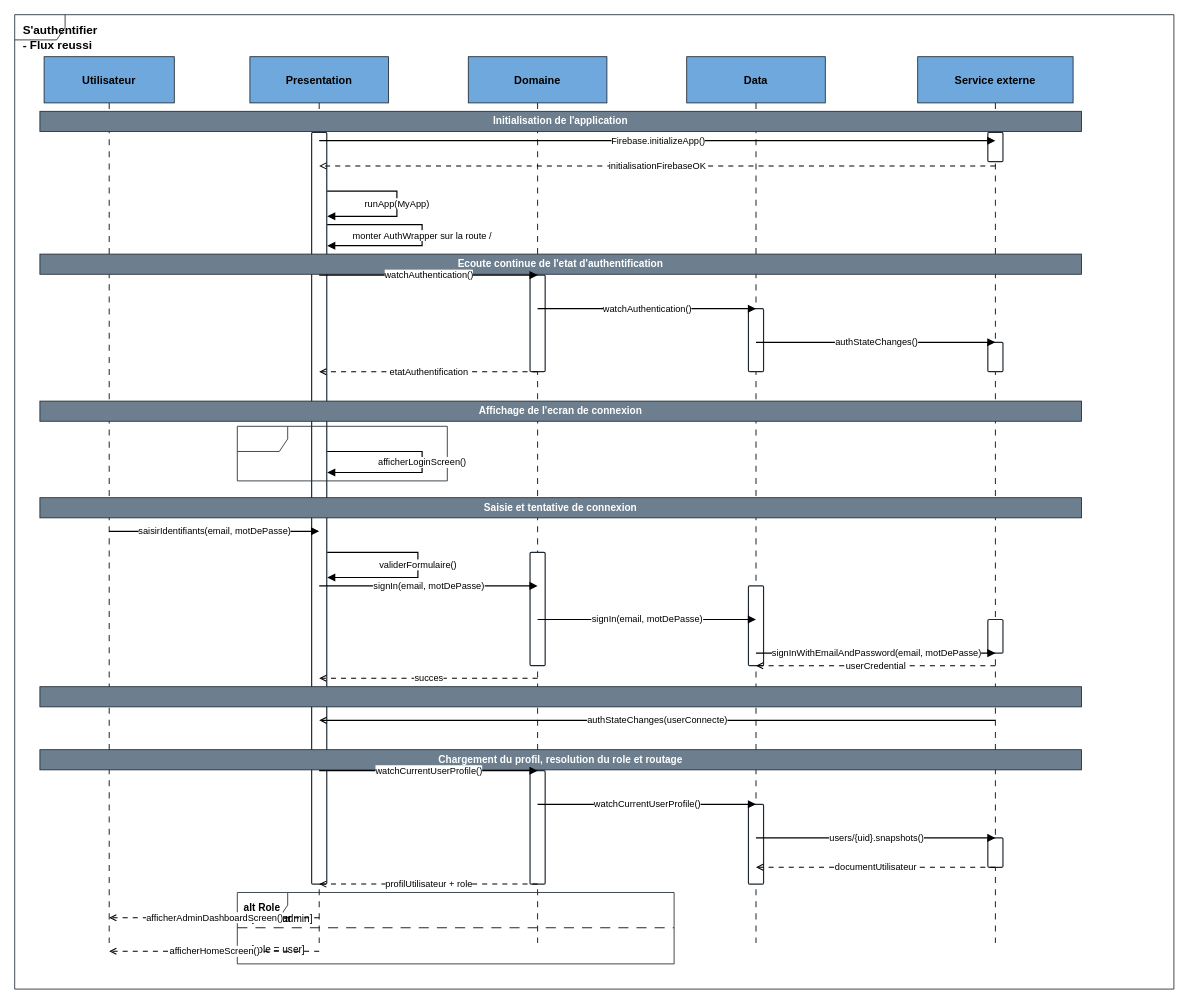
This 1189x1004 diagram has some shape labels left out. The shapes that lost their labels are listed below. From the top down, each one's centre as x and y in pixels, then its label:
(x=341, y=453): opt [utilisateur non connecte]
(x=560, y=696): Resultat Firebase : authentification reussie
